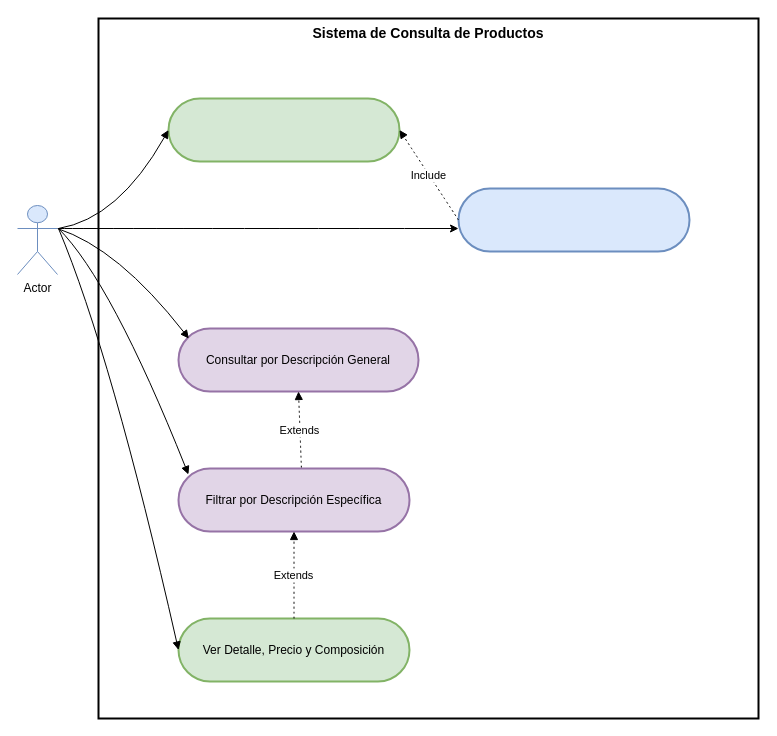
Some shapes in this 777 by 736 pixel diagram are drawn without their labels. The shapes that lost their labels are listed below. From the top down, each one's centre as x and y in pixels, then its label:
point (283, 129): Importar Actualización desde Archivo CVS
point (573, 219): Cargar Datos Archivos Prod. y Obs.
